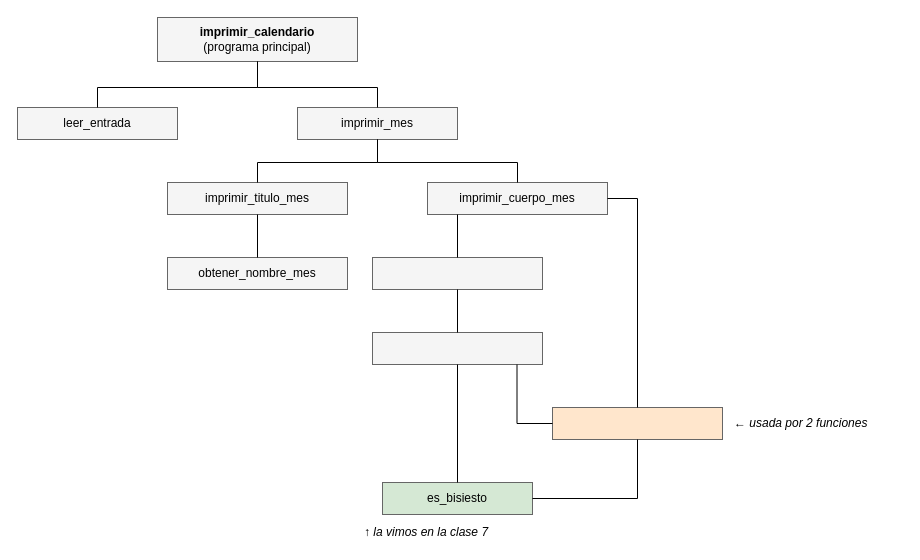
Some shapes in this 920 by 560 pixel diagram are drawn without their labels. The shapes that lost their labels are listed below. From the top down, each one's box as (x1, y1, x2, y2) in pixels, then its label:
(372, 256, 542, 290): obtener_dia_inicio
(372, 332, 542, 364): obtener_total_dias
(552, 406, 722, 440): obtener_dias_mes
